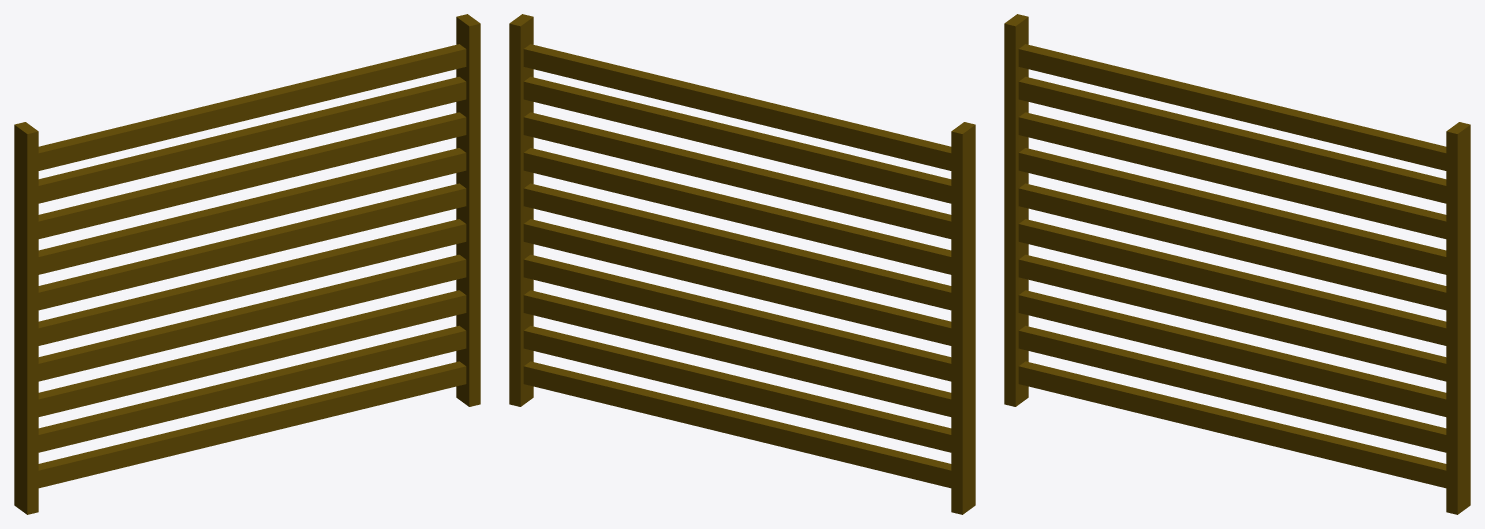
Rendered from Fence.fbx.
3 views of the same model, side by side, from view 1: azimuth 30°, elevation 25°; view 2: azimuth 150°, elevation 25°; view 3: azimuth 330°, elevation 25° (orthographic).
Visible parts, largest first — view 1: Fence5, Fence9, Fence11, Fence, Fence12, Fence6, Fence8, Fence3, Fence7, Fence10, Fence2, Fence1; view 2: Fence5, Fence9, Fence11, Fence, Fence12, Fence6, Fence8, Fence3, Fence7, Fence10, Fence2, Fence1; view 3: Fence5, Fence9, Fence11, Fence, Fence12, Fence6, Fence8, Fence10, Fence3, Fence7, Fence1, Fence2.
Boxes of the visible parts, x1,y1,x2,y2 form: Fence5: (38, 112, 466, 238); Fence9: (38, 254, 466, 381); Fence11: (38, 325, 466, 452); Fence: (38, 44, 466, 170); Fence12: (38, 361, 466, 488); Fence6: (38, 148, 466, 274); Fence8: (38, 219, 466, 345); Fence3: (38, 76, 466, 203); Fence7: (38, 183, 466, 310); Fence10: (38, 290, 466, 416); Fence2: (14, 122, 38, 514); Fence1: (456, 14, 480, 406); Fence5: (523, 112, 951, 238); Fence9: (523, 254, 951, 381); Fence11: (523, 325, 951, 452); Fence: (523, 44, 951, 170); Fence12: (523, 361, 951, 488); Fence6: (523, 148, 951, 274); Fence8: (523, 219, 951, 345); Fence3: (523, 76, 951, 203); Fence7: (523, 183, 951, 310); Fence10: (523, 290, 951, 416); Fence2: (951, 122, 975, 514); Fence1: (509, 14, 533, 406); Fence5: (1018, 112, 1446, 238); Fence9: (1018, 254, 1446, 381); Fence11: (1018, 325, 1446, 452); Fence: (1018, 44, 1446, 170); Fence12: (1018, 361, 1446, 488); Fence6: (1018, 148, 1446, 274); Fence8: (1018, 219, 1446, 345); Fence10: (1018, 290, 1446, 416); Fence3: (1018, 76, 1446, 203); Fence7: (1018, 183, 1446, 310); Fence1: (1446, 122, 1470, 514); Fence2: (1004, 14, 1028, 406).
Bounding box in the file's own units: 2 × 1.61 × 0.1.
